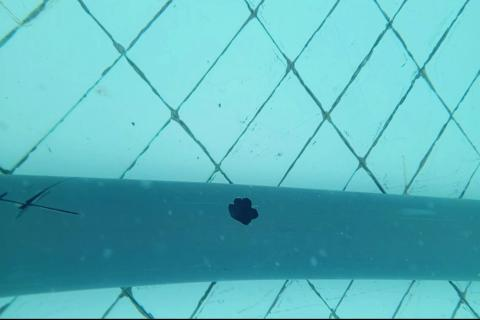kebocoran: (227, 195, 260, 227)
keretakan: (0, 182, 81, 217)
